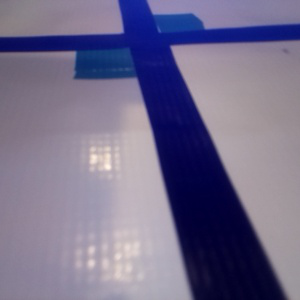bottom_left: (74, 35, 170, 78)
top_right: (124, 12, 204, 43)
